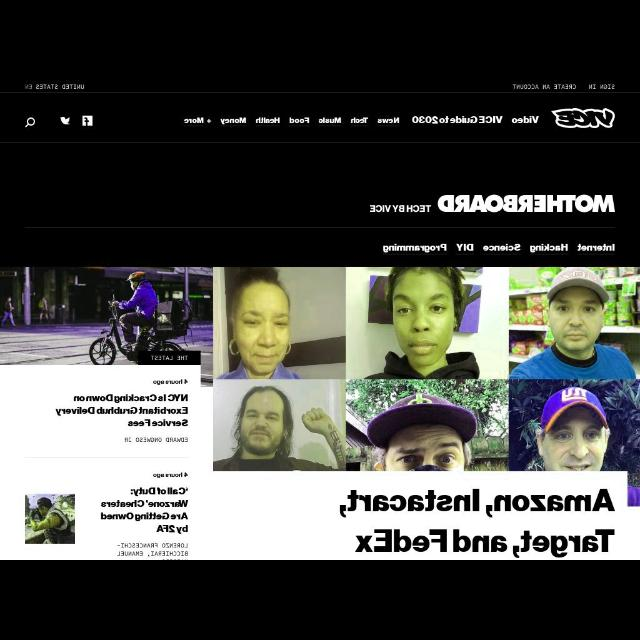backgroundimage: (1, 266, 213, 364)
icon: (24, 116, 36, 128), (60, 114, 70, 126), (82, 116, 92, 126), (206, 118, 212, 124)
image: (212, 266, 640, 472), (370, 194, 616, 212), (25, 494, 75, 544), (550, 108, 616, 128)
multitab: (380, 242, 618, 256)
text: (340, 488, 614, 518), (354, 530, 614, 558), (54, 394, 188, 426), (100, 486, 188, 534), (116, 543, 188, 557), (412, 116, 502, 124), (383, 243, 447, 253), (577, 242, 615, 252), (529, 243, 567, 253), (514, 84, 576, 90), (26, 84, 84, 90), (483, 244, 521, 252), (124, 438, 188, 442), (150, 355, 188, 361), (511, 116, 539, 124), (152, 473, 188, 479), (220, 117, 246, 125), (154, 379, 188, 385), (256, 117, 280, 125), (589, 84, 615, 90), (318, 118, 342, 124), (456, 243, 474, 251), (377, 118, 399, 124), (289, 118, 309, 124), (184, 118, 204, 124), (350, 118, 368, 124)
toolbar: (1, 80, 640, 142)
